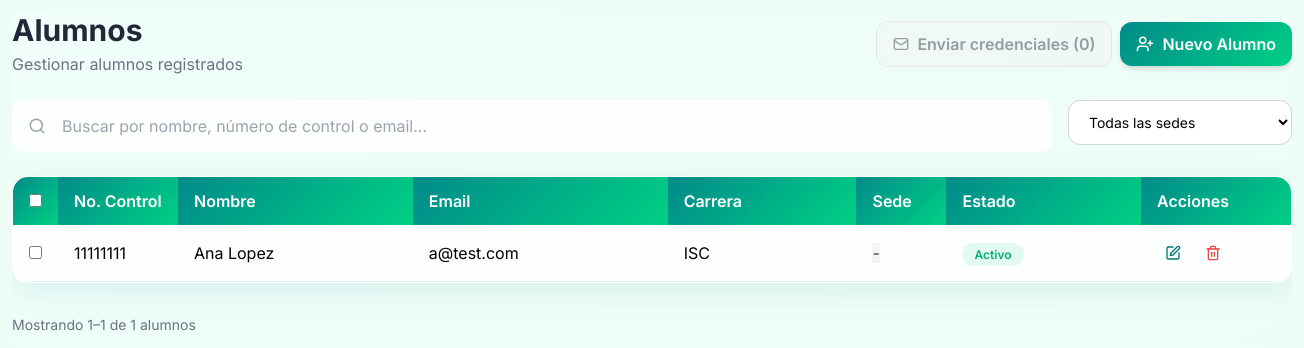
Test: Alumnos bulk wiring › seleccionar checkbox habilita botón con contador
The width and height of the screenshot is (1304, 348).
Note: second is row checkbox (first is select-all)
Click the checkbox named "Seleccionar a@test.com". click: (36, 252)
box: 29,246 -> 42,259
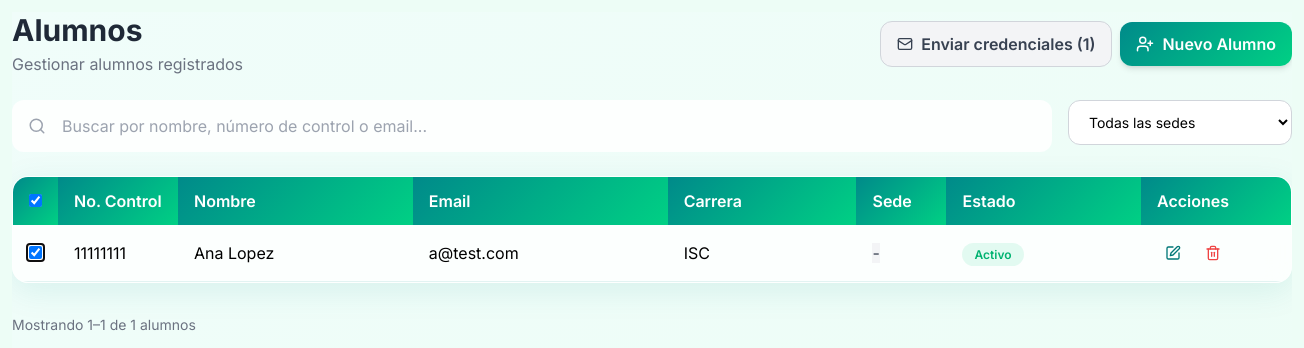
Expected: the button "Enviar credenciales (1)" is enabled, 880,21 -> 1112,67
